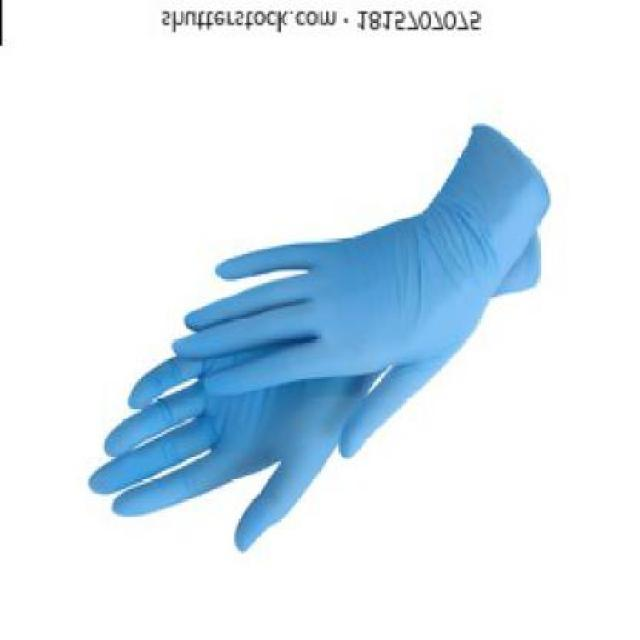gloved_hand: (90, 125, 564, 558)
